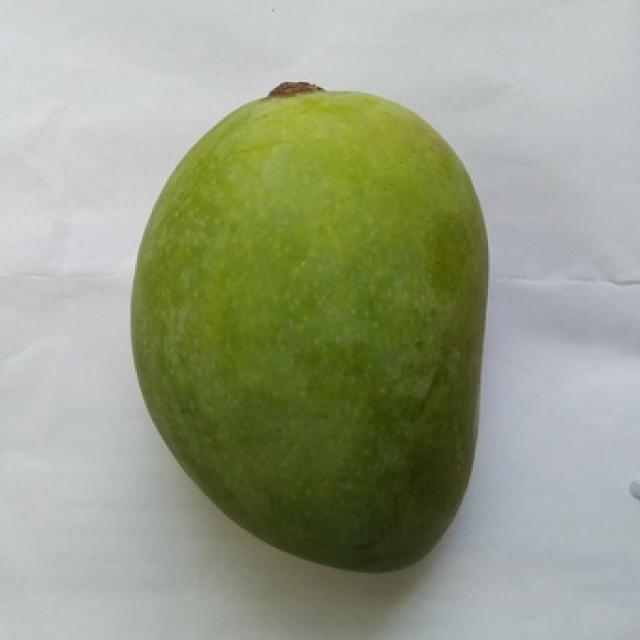Mango: (131, 83, 484, 570)
